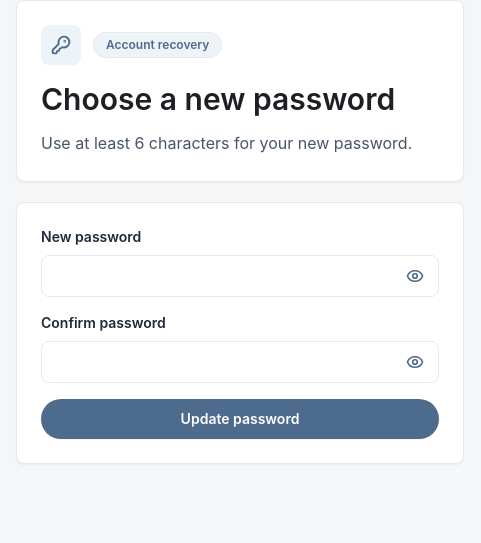
Test: ResetPasswordPage › rejects passwords that do not match
In the password field labelled "New password": (240,276) [41,255,439,297], type "password123"
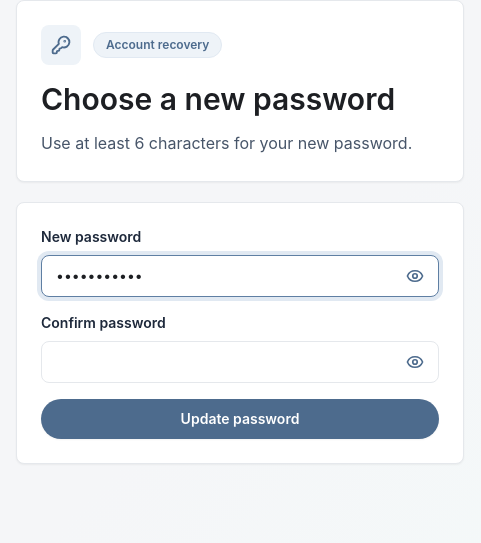
In the password field labelled "Confirm password": (240,362) [41,341,439,383], type "password456"
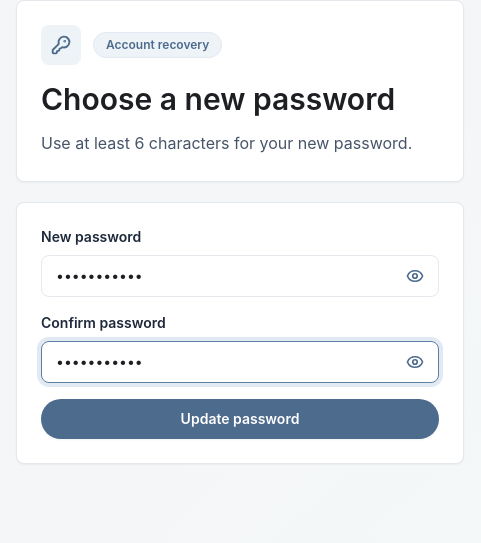
Click the button "Update password": (240,419) [41,399,439,439]
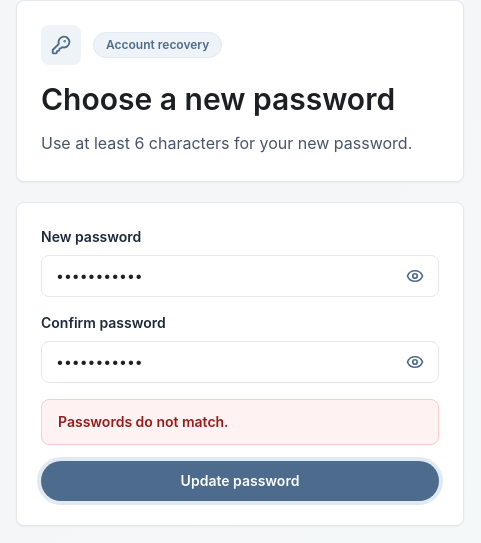
Result: the text "Passwords do not match." is shown at [41,399,439,445]
